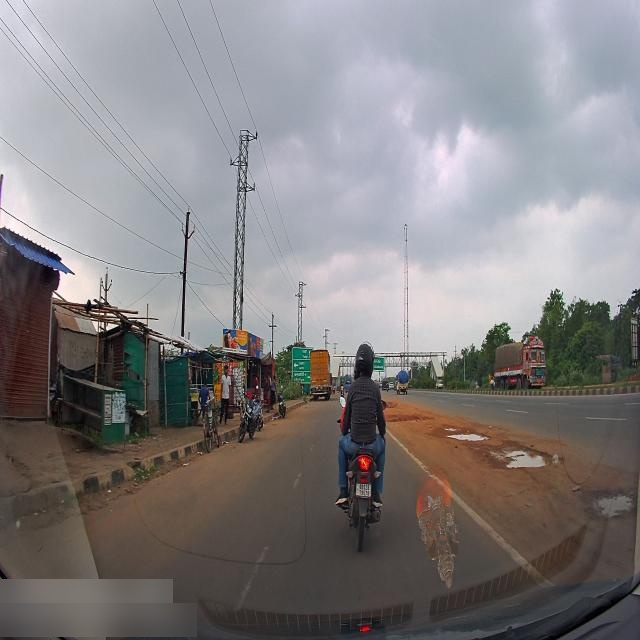pothole: (576, 483, 638, 524), (490, 448, 550, 472), (446, 426, 490, 446), (444, 419, 457, 432)
